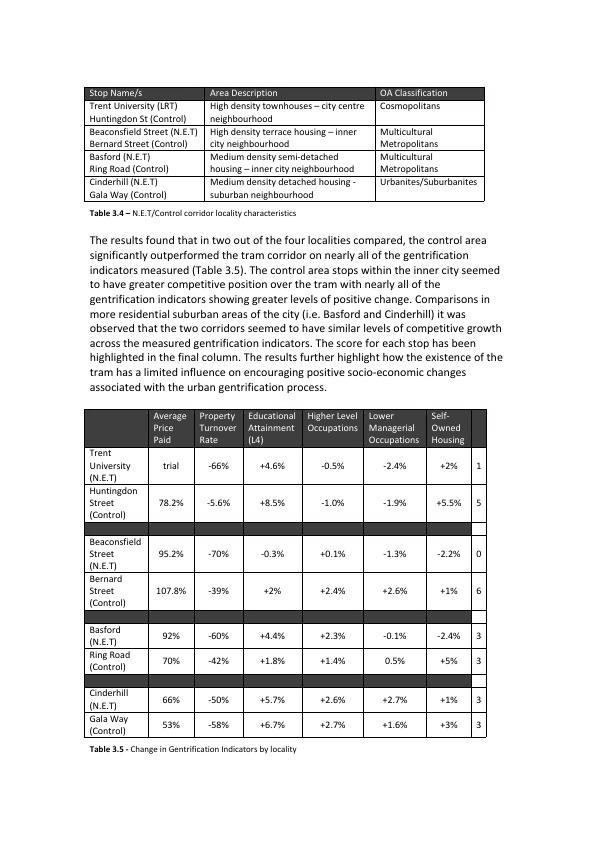table: (84, 408, 487, 738), (83, 86, 487, 204)
text: (87, 232, 505, 393), (88, 743, 296, 756), (88, 207, 297, 219)
